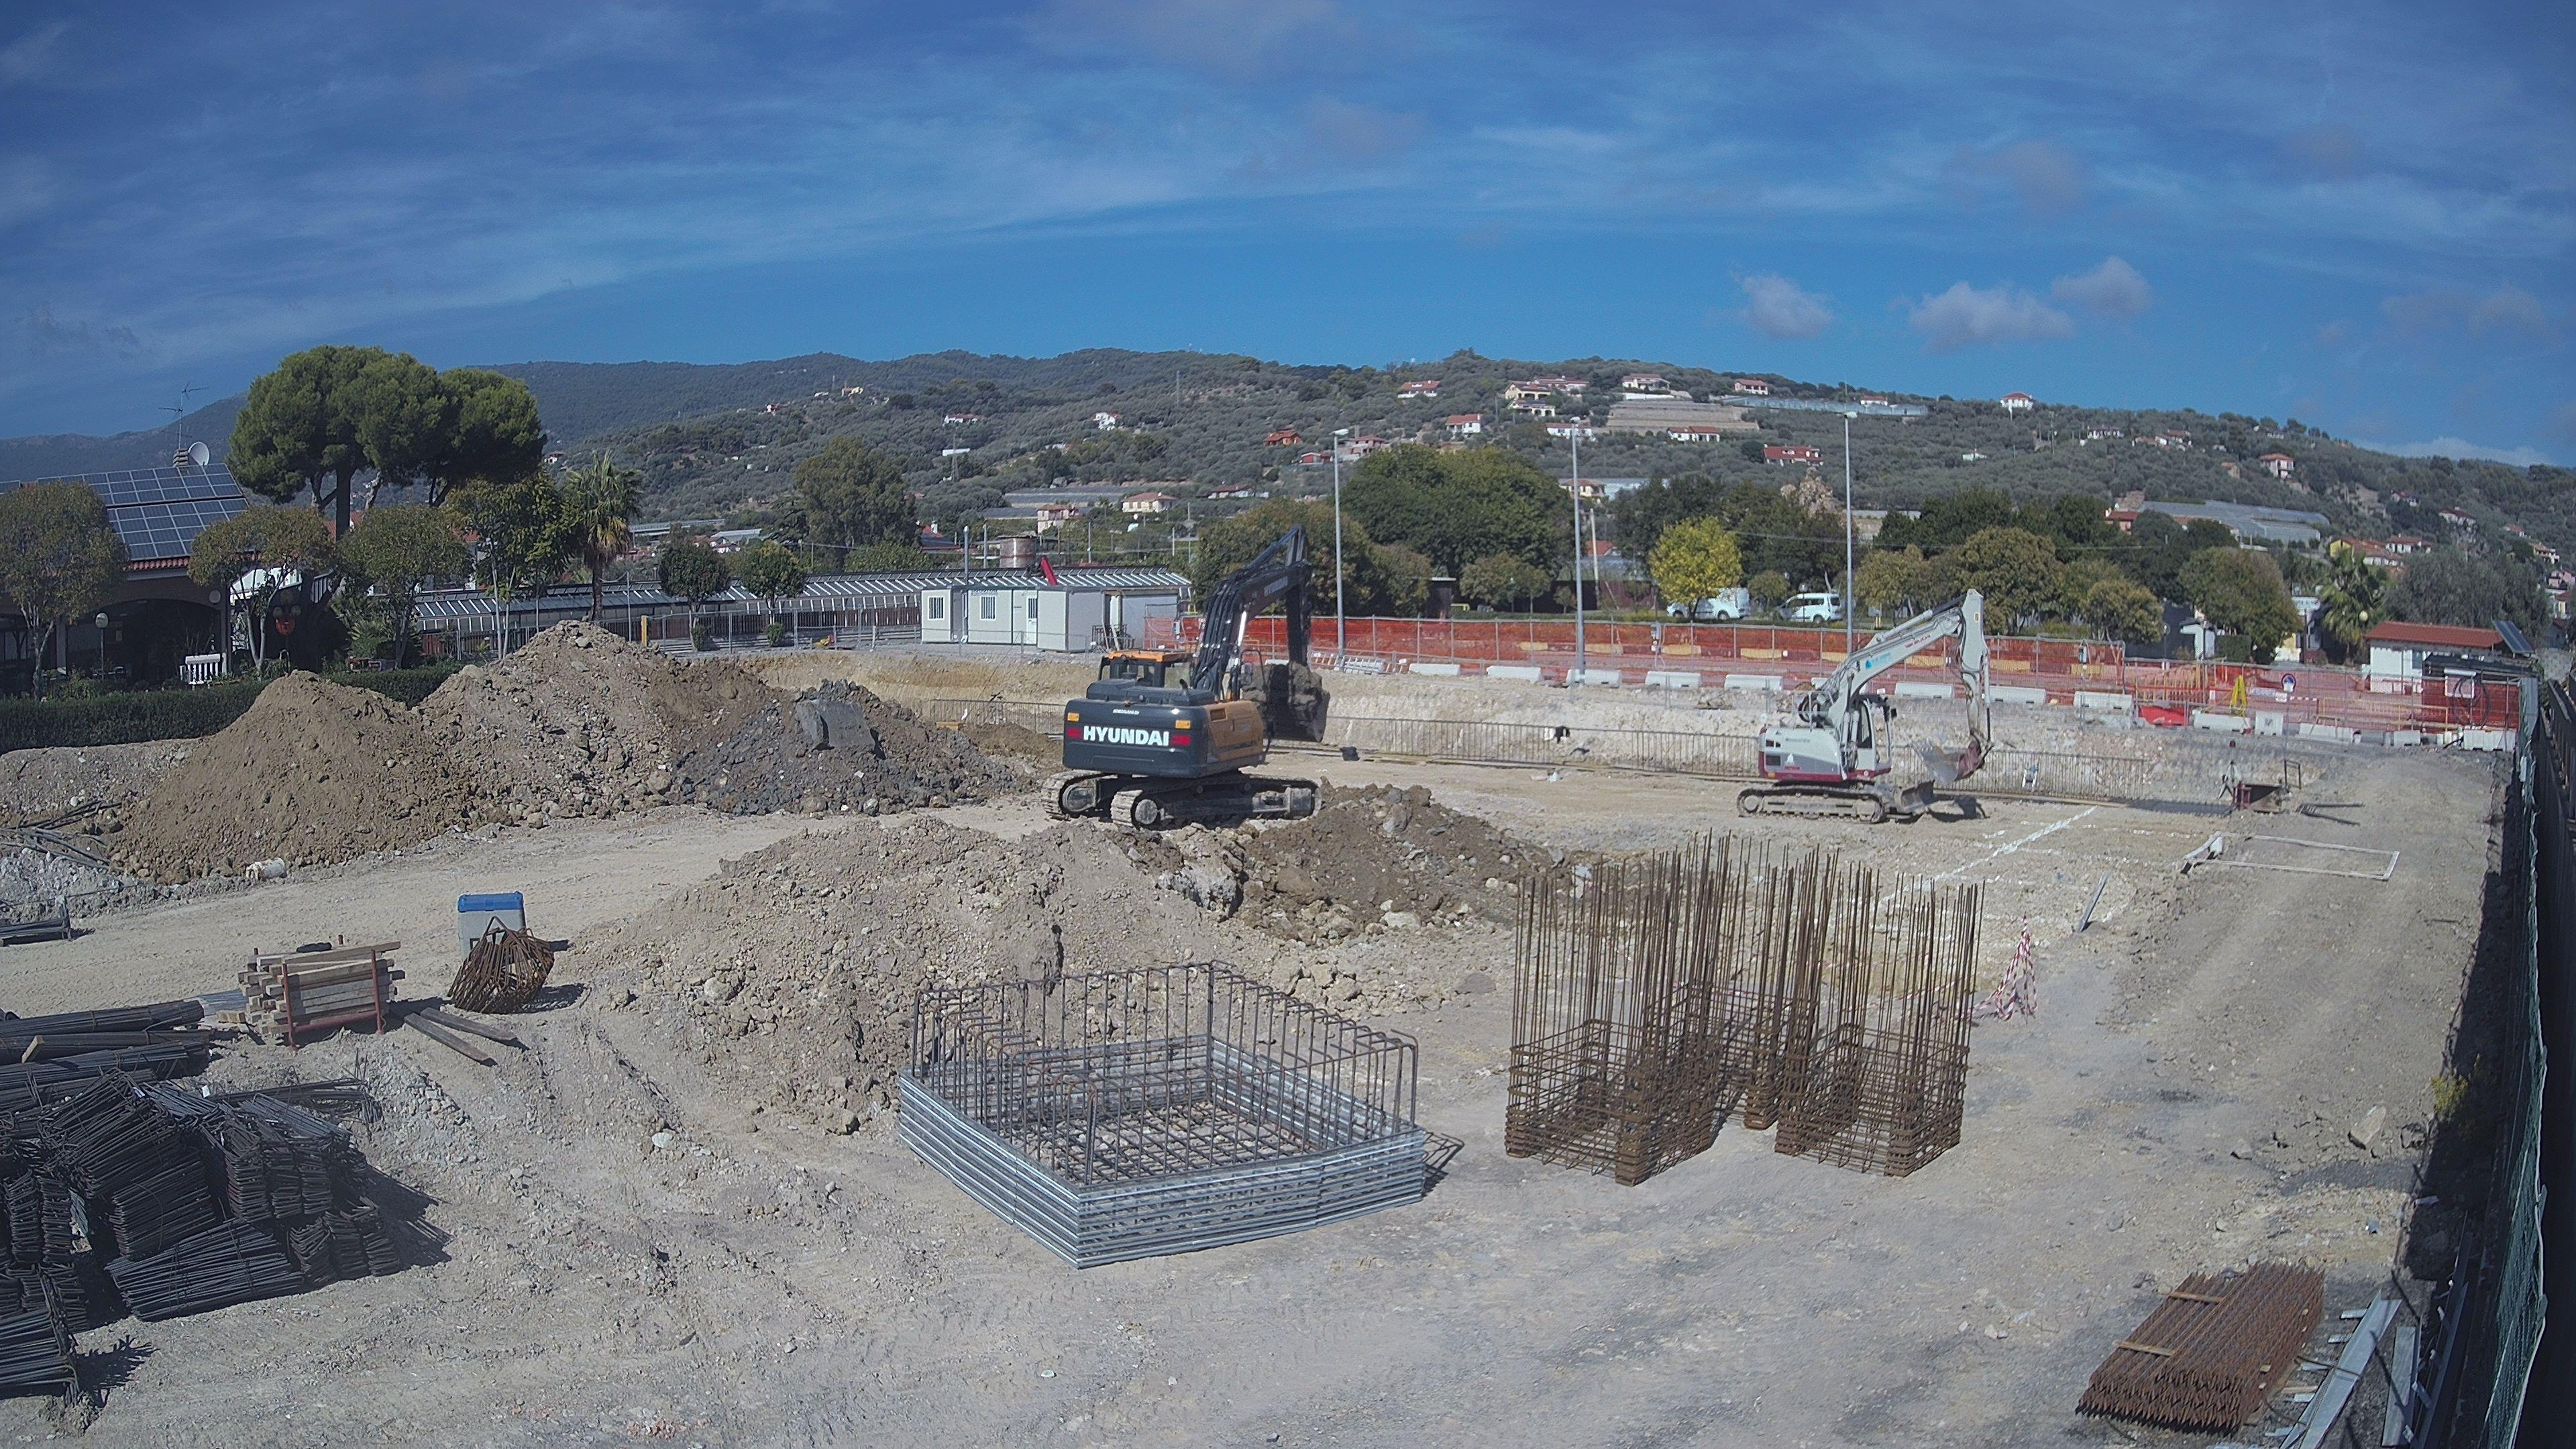Cars: (1665, 587, 1750, 621), (1769, 593, 1845, 626)
excavator: (1042, 518, 1334, 835), (1737, 587, 1997, 826)
